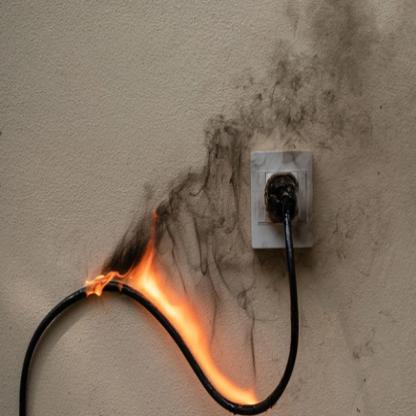fire: (80, 210, 262, 414)
smoke: (95, 0, 416, 392)
